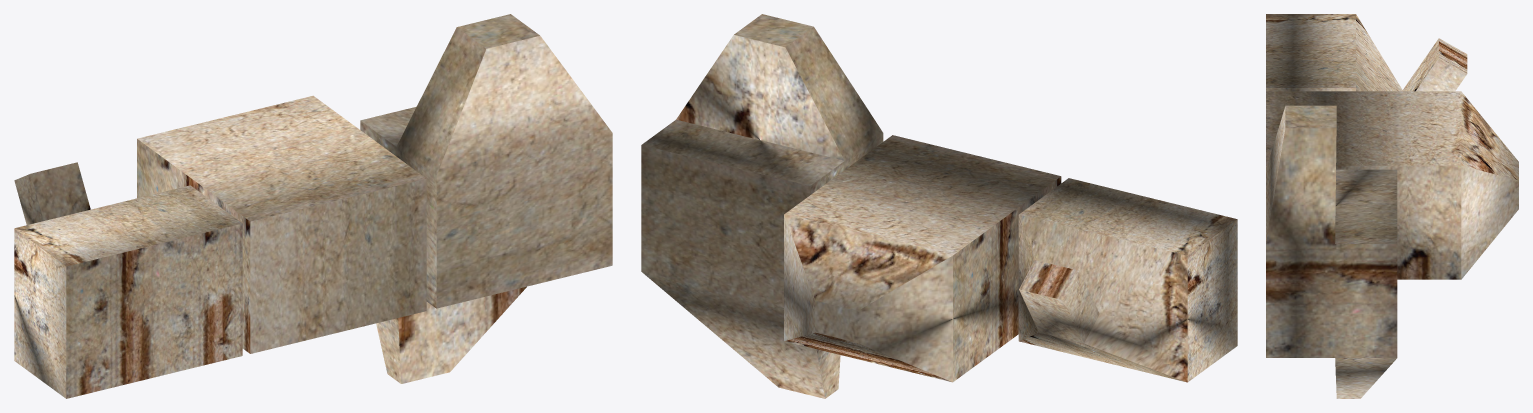
3 renders of one model, left to right at view 1: azimuth 30°, elevation 25°; view 2: azimuth 150°, elevation 25°; view 3: azimuth 270°, elevation 25°, orthographic. The views are drawn at different scales.
Parts seen in each view (by area): view 1: geoRock, geoOcean, geoGrass; view 2: geoRock, geoOcean, geoGrass; view 3: geoRock, geoOcean, geoGrass.
Part boxes in pixels (x1,y1,x2,y2): geoRock: (360, 14, 612, 383); geoOcean: (137, 95, 426, 353); geoGrass: (14, 162, 242, 398); geoRock: (641, 14, 883, 398); geoOcean: (784, 135, 1061, 382); geoGrass: (1018, 178, 1237, 382); geoRock: (1266, 105, 1397, 398); geoOcean: (1266, 91, 1518, 279); geoGrass: (1266, 14, 1467, 91).
Size of the model in its own units: 322 by 150 by 194.
